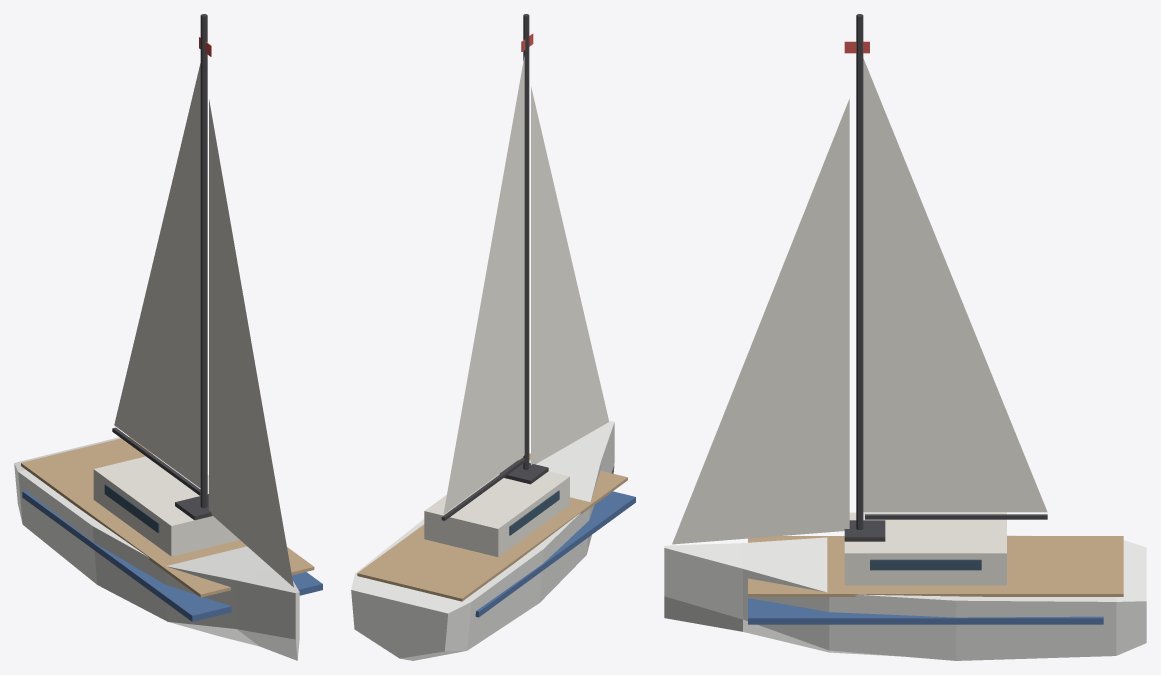
The model's file is prop_boat_sail.glb.
3 views of the same model, side by side, from view 1: azimuth 30°, elevation 25°; view 2: azimuth 150°, elevation 25°; view 3: azimuth 270°, elevation 25° (orthographic). The views are drawn at different scales.
Parts seen in each view (by area): view 1: main, jib, hull, deck, cabin, mast, stripe, boom, windows, hatch; view 2: main, hull, jib, deck, cabin, mast, stripe, hatch, boom, windows; view 3: main, jib, hull, deck, cabin, stripe, mast, windows, boom, hatch.
Boxes of the visible parts, <box> form: main: <box>114,63,200,488</box>; jib: <box>209,99,293,587</box>; hull: <box>14,437,299,660</box>; deck: <box>21,436,314,597</box>; cabin: <box>93,454,239,556</box>; mast: <box>200,14,207,508</box>; stripe: <box>22,490,322,621</box>; boom: <box>112,427,200,495</box>; windows: <box>104,484,159,533</box>; hatch: <box>175,494,212,520</box>; main: <box>443,56,524,514</box>; hull: <box>351,421,614,660</box>; jib: <box>531,86,609,464</box>; deck: <box>357,453,627,601</box>; cabin: <box>424,471,569,556</box>; mast: <box>523,14,529,469</box>; stripe: <box>475,491,635,617</box>; hatch: <box>500,460,548,484</box>; boom: <box>441,458,525,520</box>; windows: <box>509,490,559,535</box>; main: <box>863,58,1047,512</box>; jib: <box>672,99,849,544</box>; hull: <box>664,535,1146,660</box>; deck: <box>748,536,1123,596</box>; cabin: <box>844,512,1006,585</box>; stripe: <box>748,598,1103,624</box>; mast: <box>856,14,863,529</box>; windows: <box>870,559,981,570</box>; boom: <box>865,514,1047,519</box>; hatch: <box>844,520,885,541</box>.
Size of the model in its own units: 3.1 by 14 by 9.5.
